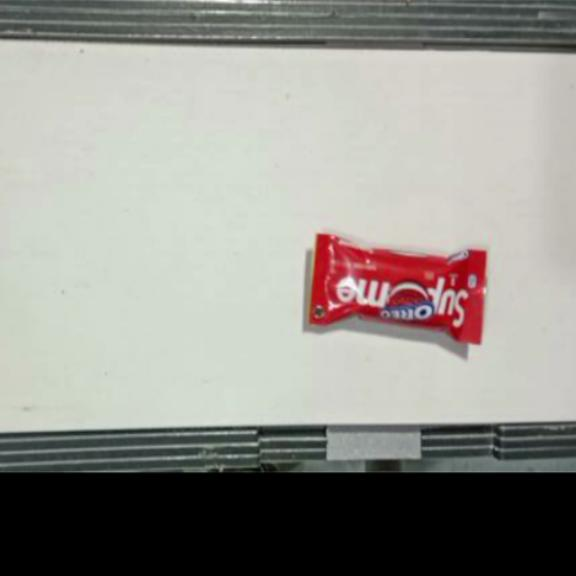Plastik: (311, 234, 487, 344)
